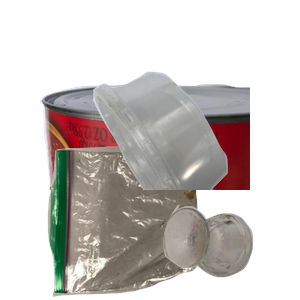glass: (161, 202, 300, 300)
metal: (37, 81, 277, 261)
plastic: (91, 69, 300, 249)
trash: (45, 144, 235, 300)
